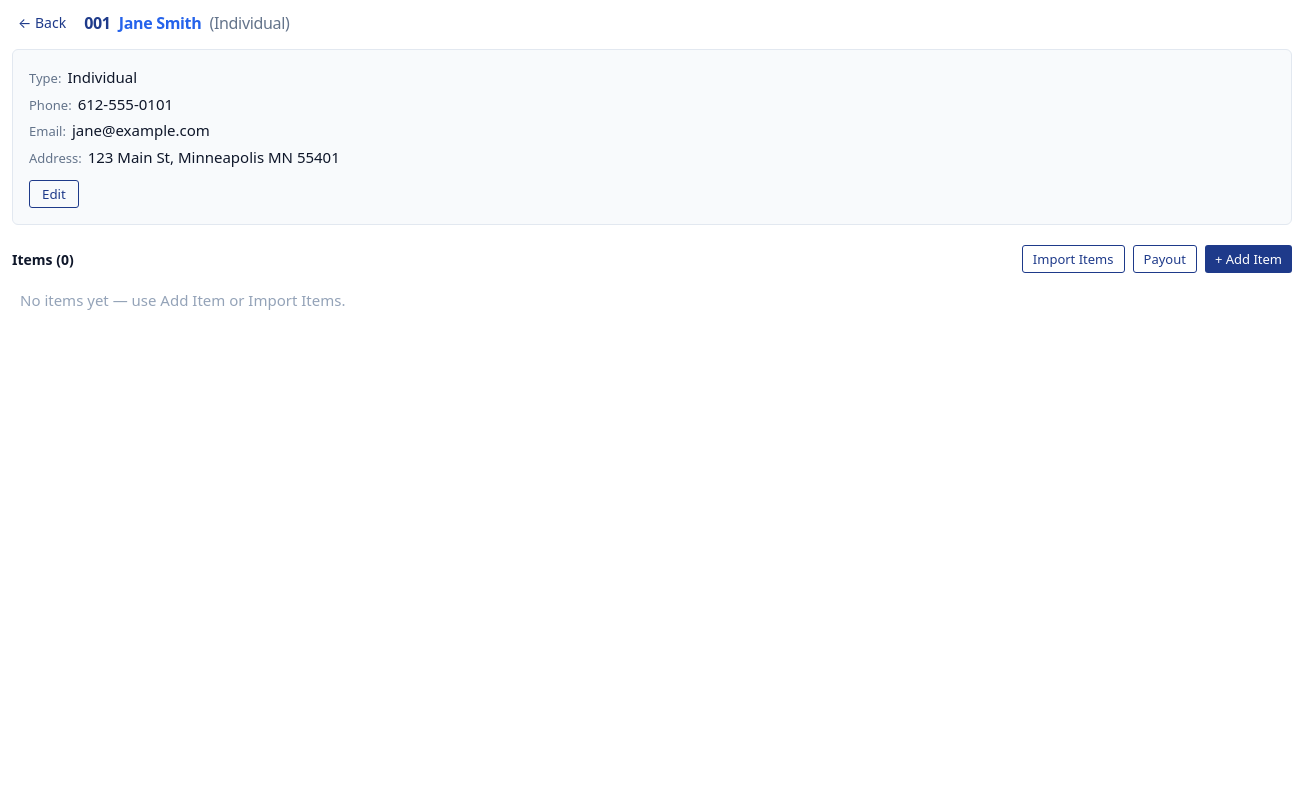
Scenario: SellerDetailPage › shows an error when saving without a street address or city
Click the button "Edit": (54, 194) 29,180 -> 79,208
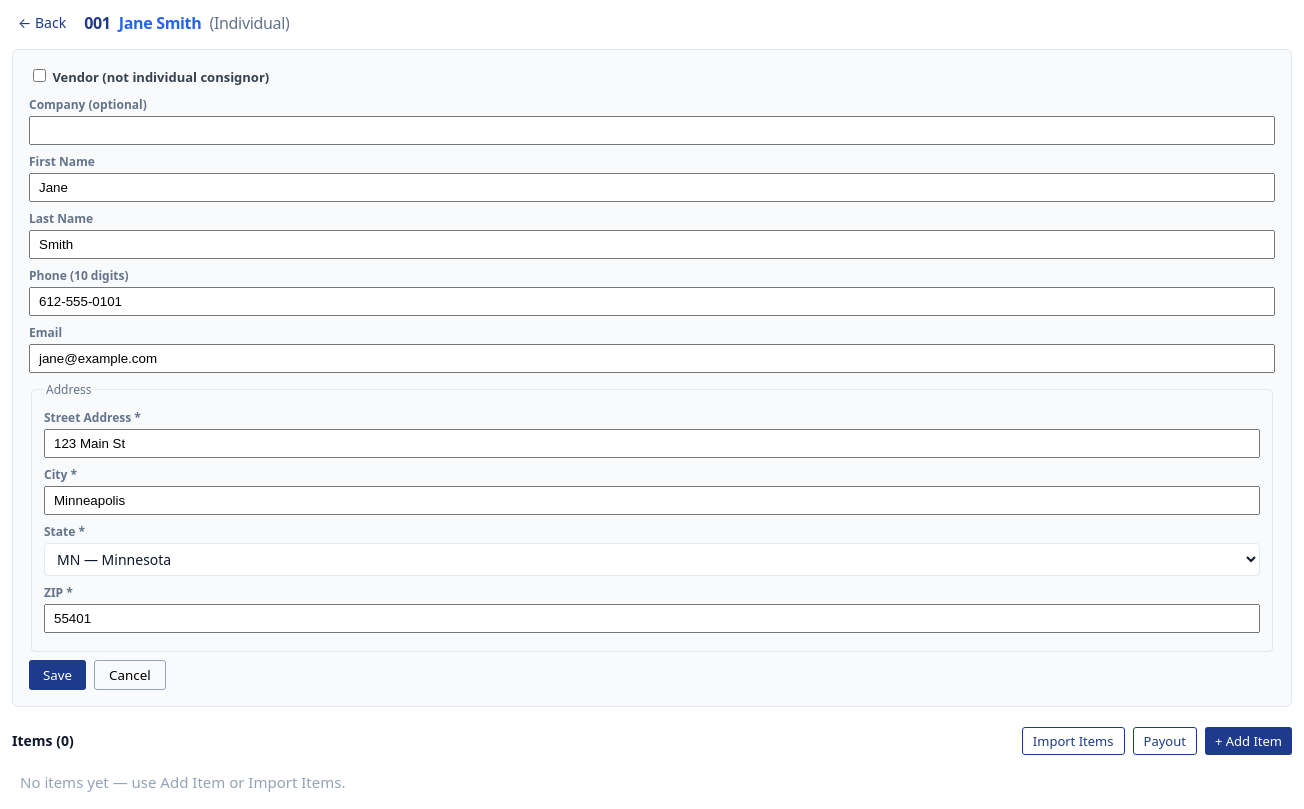
Clear the field labelled "Street Address *": (652, 443) 44,428 -> 1260,458
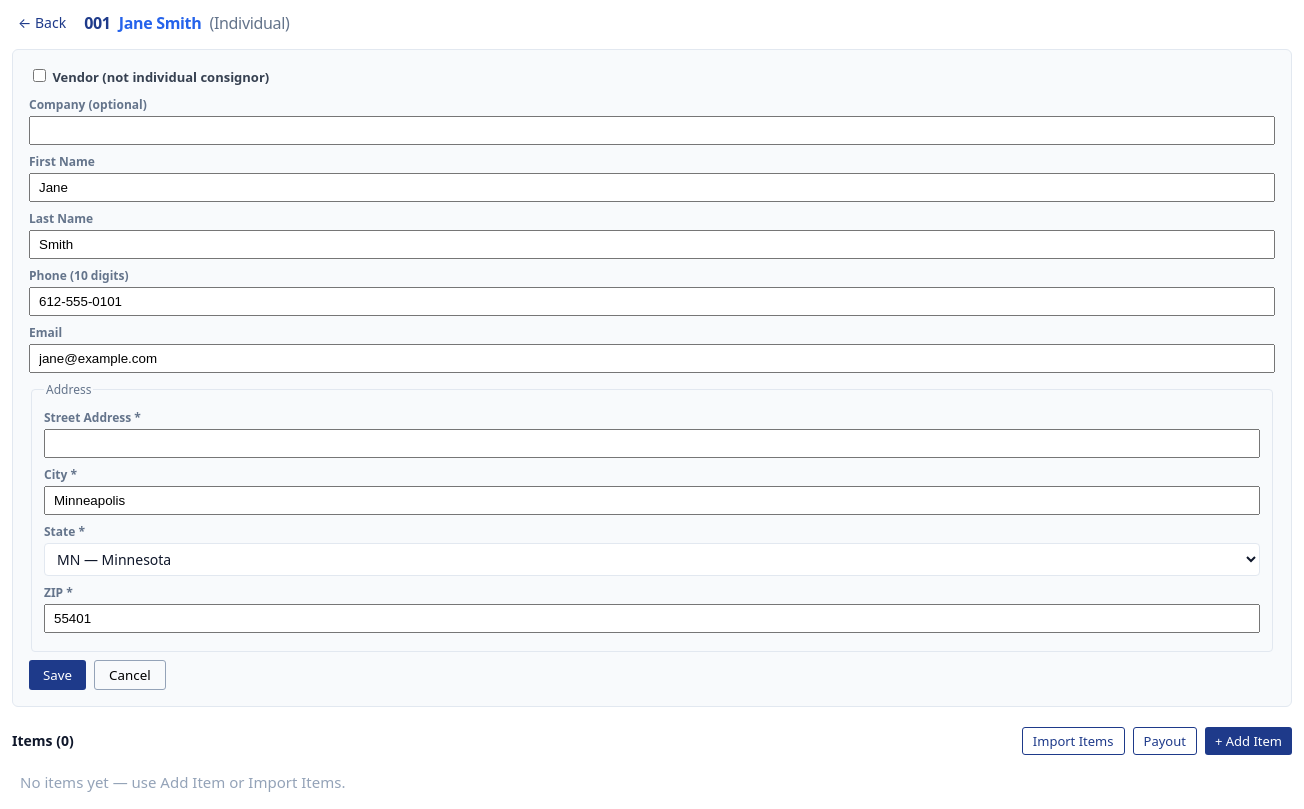
Click the button "Save": (58, 674) 29,660 -> 86,690
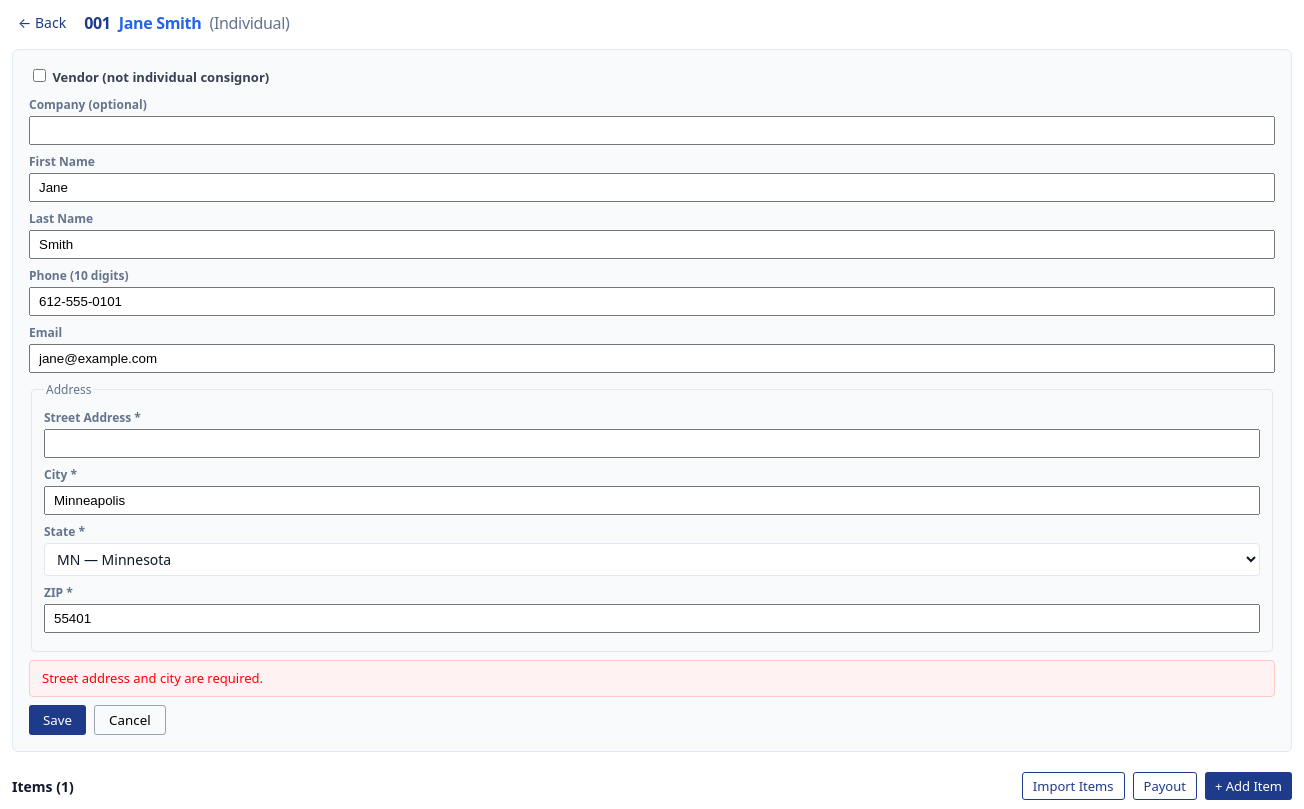
expect the message shows "Street address and city are required": met, box 42,668 -> 263,686
